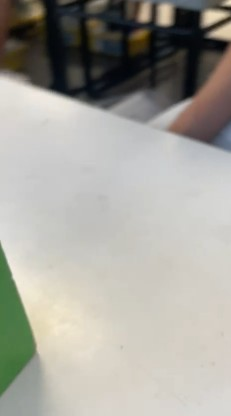green: (0, 151, 60, 388)
